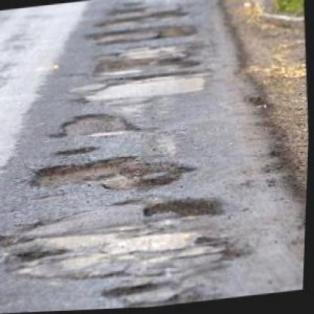Hueco: (28, 147, 202, 205), (46, 107, 143, 146), (83, 20, 198, 51), (92, 51, 202, 82), (143, 195, 230, 227), (92, 10, 187, 32), (54, 144, 102, 159)
